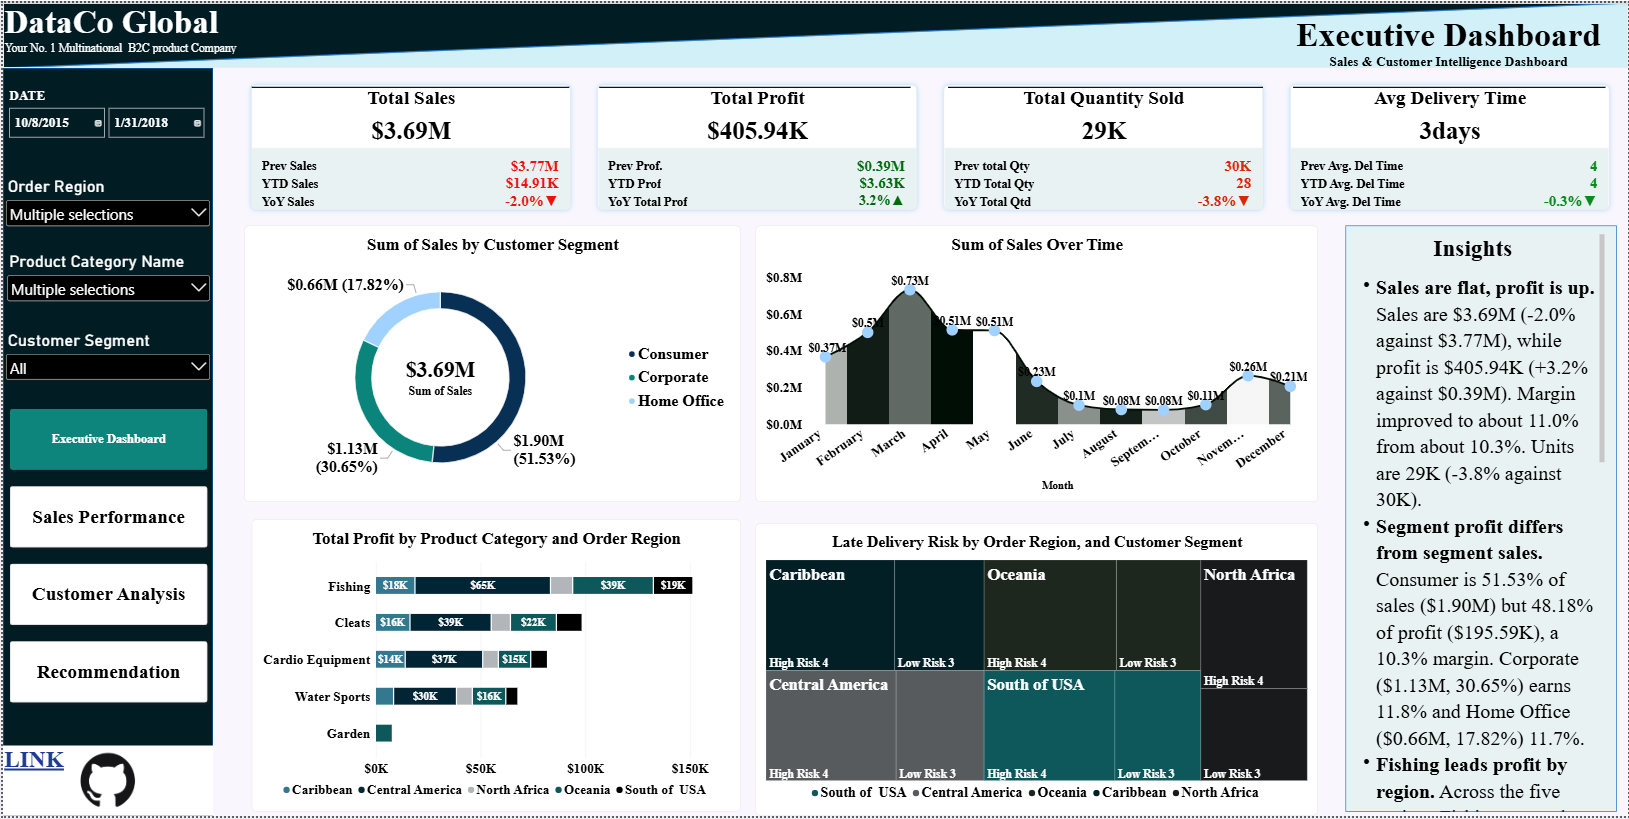

Layout of this report page (visuals, bound fields, positions):
{"tool":"powerbi","page":{"name":"Executive Dashboard","canvas":[2600,1300],"ordinal":0},"visuals":[{"type":"shape","box":[0,0,2600,104],"z":0},{"type":"shape","box":[0,104,336,1196],"z":1000},{"type":"slicer","fields":{"Values":["Dim_Location.Order Region"]},"box":[0,278,336,92],"z":2000},{"type":"slicer","fields":{"Values":["Dim_Customer.Customer Segment"]},"box":[0,524,336,84],"z":3000},{"type":"slicer","fields":{"Values":["Dim_Product.Product Category Name"]},"box":[2,398,334,88],"z":4000},{"type":"shape","box":[0,0,2600,104],"z":5000},{"type":"textbox","box":[2044,20,538,86],"z":6000},{"type":"textbox","box":[2,0,440,104],"z":7000},{"type":"pageNavigator","box":[2,640,334,488],"z":8000},{"type":"image","box":[0,1188,336,112],"z":9000},{"type":"textbox","box":[2,1188,132,56],"z":10000},{"type":"cardVisual","fields":{"Data":["_Measures.Total Sales","_Measures.Total Profit","_Measures.Total Quantity","_Measures.Avg Delivery Time"]},"box":[386,120,2196,208],"z":11000},{"type":"slicer","fields":{"Values":["Dim_Dates.Date"]},"box":[2,136,334,142],"z":12000},{"type":"treemap","title":" Late Delivery Risk by Order Region, and Customer Segment","fields":{"Details":["Dim_Shipping Status.Late Delivery Risk"],"Group":["Dim_Location.Order Region","Dim_Customer.Customer Segment"],"Values":["_Measures.Avg Delivery Time"]},"box":[1204,832,900,468],"z":13000},{"type":"donutChart","fields":{"Category":["Dim_Customer.Customer Segment"],"Y":["Sum(FactSales.Sales)"]},"box":[386,356,794,442],"z":14000},{"type":"barChart","title":"Total Profit by Product Category and Order Region","fields":{"Category":["Dim_Product.Product Category Name"],"Series":["Dim_Location.Order Region"],"Y":["_Measures.Total Profit"]},"box":[398,826,782,468],"z":15000},{"type":"shape","box":[398,72,508,126],"z":16000},{"type":"shape","box":[954,72,498,126],"z":17000},{"type":"shape","box":[1512,72,504,126],"z":18000},{"type":"shape","box":[2064,72,500,126],"z":19000},{"type":"stackedAreaChart","title":"Sum of Sales Over Time","fields":{"Category":["Dim_Dates.Date.Variation.Date Hierarchy.Year","Dim_Dates.Date.Variation.Date Hierarchy.Quarter","Dim_Dates.Date.Variation.Date Hierarchy.Month"],"Y":["Sum(FactSales.Sales)"]},"box":[1204,356,900,442],"z":20000},{"type":"shape","box":[2148,356,434,938],"z":21000},{"type":"textbox","box":[100,100,300,300],"z":22000},{"type":"textbox","box":[2148,370,414,924],"z":22001}]}

Visuals, with their boxes in screenshot pixels (x1, y1, x2, y2), scaled from the page's 2600x1300 canvas onto the 1629x819 screenshot:
shape: bbox=[0, 0, 1628, 66]
shape: bbox=[0, 66, 211, 818]
slicer - Dim_Location.Order Region: bbox=[0, 175, 211, 233]
slicer - Dim_Customer.Customer Segment: bbox=[0, 330, 211, 383]
slicer - Dim_Product.Product Category Name: bbox=[1, 251, 211, 306]
shape: bbox=[0, 0, 1628, 66]
textbox: bbox=[1281, 13, 1618, 67]
textbox: bbox=[1, 0, 277, 66]
pageNavigator: bbox=[1, 403, 211, 711]
image: bbox=[0, 748, 211, 818]
textbox: bbox=[1, 748, 84, 784]
cardVisual - _Measures.Total Sales x _Measures.Total Profit: bbox=[242, 76, 1618, 207]
slicer - Dim_Dates.Date: bbox=[1, 86, 211, 175]
" Late Delivery Risk by Order Region, and Customer Segment" treemap: bbox=[754, 524, 1318, 818]
donutChart - Dim_Customer.Customer Segment x Sum(FactSales.Sales): bbox=[242, 224, 739, 503]
"Total Profit by Product Category and Order Region" barChart: bbox=[249, 520, 739, 815]
shape: bbox=[249, 45, 568, 125]
shape: bbox=[598, 45, 910, 125]
shape: bbox=[947, 45, 1263, 125]
shape: bbox=[1293, 45, 1606, 125]
"Sum of Sales Over Time" stackedAreaChart: bbox=[754, 224, 1318, 503]
shape: bbox=[1346, 224, 1618, 815]
textbox: bbox=[63, 63, 251, 252]
textbox: bbox=[1346, 233, 1605, 815]
